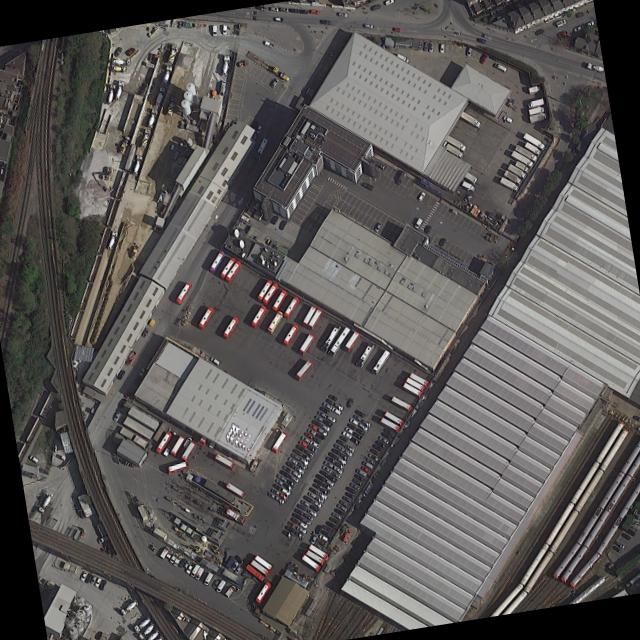large-vehicle: (245, 51, 280, 76), (326, 326, 351, 358), (319, 323, 342, 354), (369, 349, 391, 376), (354, 342, 375, 369), (293, 359, 314, 382), (280, 324, 300, 348), (223, 260, 243, 284), (220, 316, 240, 340), (153, 431, 173, 455), (265, 310, 284, 335), (196, 306, 215, 331), (255, 278, 274, 303), (249, 305, 268, 330), (509, 150, 534, 169), (253, 581, 272, 606), (207, 250, 226, 274), (174, 282, 193, 306), (260, 282, 279, 306), (514, 144, 538, 163), (218, 256, 236, 281), (244, 564, 266, 584), (342, 330, 361, 353), (282, 296, 300, 320), (270, 289, 288, 313), (458, 111, 482, 129), (522, 133, 546, 151), (223, 482, 247, 500), (297, 333, 315, 356), (270, 431, 288, 454), (303, 549, 326, 567), (389, 396, 413, 413), (212, 454, 236, 471), (300, 554, 321, 573), (253, 554, 274, 573), (307, 543, 329, 561), (306, 308, 323, 331), (382, 410, 405, 427), (378, 417, 401, 434), (300, 305, 317, 328), (224, 509, 247, 526), (249, 559, 270, 577), (118, 599, 139, 617), (169, 435, 186, 457), (445, 136, 467, 153), (136, 622, 156, 640), (179, 441, 196, 462), (36, 493, 53, 514), (407, 372, 429, 388), (403, 377, 425, 393), (401, 382, 423, 398), (498, 177, 520, 193), (444, 143, 464, 160), (132, 616, 152, 633), (502, 170, 523, 186), (506, 164, 527, 180), (165, 461, 188, 475), (256, 135, 270, 155), (523, 142, 541, 157), (138, 129, 151, 149), (131, 155, 143, 176), (146, 108, 158, 129), (585, 62, 604, 75), (154, 87, 166, 107), (528, 112, 548, 124), (105, 84, 116, 105), (114, 80, 125, 101), (161, 65, 172, 86), (165, 96, 176, 117), (106, 231, 118, 250), (220, 55, 230, 77), (166, 45, 177, 65), (514, 160, 529, 174), (526, 98, 545, 109), (361, 482, 374, 498), (143, 629, 161, 640), (460, 181, 476, 193), (527, 106, 545, 116), (395, 53, 410, 64), (111, 58, 131, 66), (493, 63, 507, 73), (110, 65, 127, 73), (157, 189, 167, 202), (527, 86, 541, 95), (279, 71, 290, 82), (219, 80, 226, 96), (554, 19, 566, 28), (625, 528, 636, 537), (620, 532, 631, 541), (614, 541, 625, 550), (502, 116, 513, 124), (611, 545, 621, 553), (632, 415, 640, 423)
small-vehicle: (171, 552, 184, 567), (395, 170, 407, 186), (223, 584, 236, 598), (193, 566, 205, 581), (214, 579, 226, 593), (202, 572, 214, 586), (158, 546, 170, 560), (189, 564, 200, 578), (224, 556, 235, 569), (354, 468, 368, 478), (115, 369, 126, 381), (161, 446, 172, 458), (182, 437, 193, 449), (164, 548, 175, 560), (361, 182, 374, 192), (372, 160, 385, 170), (185, 562, 195, 575), (168, 551, 178, 564), (96, 535, 109, 545), (376, 435, 389, 445), (361, 460, 374, 470), (291, 448, 303, 458), (171, 149, 181, 161), (478, 53, 488, 65), (281, 465, 293, 475), (324, 520, 336, 530), (335, 503, 347, 513), (321, 524, 333, 534), (290, 470, 302, 480), (352, 473, 364, 483), (334, 438, 346, 448), (341, 448, 353, 458), (278, 469, 290, 479), (314, 473, 326, 483), (281, 529, 293, 539), (379, 431, 391, 441), (371, 443, 383, 453), (316, 491, 328, 501), (571, 24, 584, 33), (555, 31, 568, 40), (322, 461, 335, 470), (209, 356, 220, 366), (137, 366, 147, 377), (111, 411, 121, 422), (319, 423, 330, 433), (269, 78, 279, 89), (113, 47, 123, 58), (462, 193, 473, 203), (413, 218, 423, 229), (211, 578, 221, 589), (338, 499, 349, 509), (320, 529, 331, 539), (327, 451, 338, 461), (348, 417, 359, 427), (326, 474, 337, 484), (308, 440, 320, 449), (306, 445, 318, 454), (286, 457, 298, 466), (316, 428, 328, 437), (322, 419, 334, 428), (321, 402, 333, 411), (325, 415, 337, 424), (293, 466, 305, 475), (330, 512, 342, 521), (177, 557, 186, 569), (79, 571, 88, 583), (83, 573, 92, 585), (97, 579, 106, 591), (344, 486, 356, 495), (348, 482, 360, 491), (350, 478, 362, 487), (343, 444, 355, 453), (332, 443, 344, 452), (333, 461, 345, 470), (320, 465, 332, 474), (351, 432, 363, 441), (275, 474, 287, 483), (357, 423, 369, 432), (283, 525, 295, 534), (295, 526, 307, 535), (382, 428, 394, 437), (374, 440, 386, 449), (368, 448, 380, 457), (367, 453, 379, 462), (359, 465, 371, 474), (295, 503, 307, 512), (308, 504, 320, 513), (233, 555, 243, 565), (28, 455, 39, 464), (278, 220, 287, 231), (373, 222, 382, 233), (300, 435, 311, 444), (297, 440, 308, 449), (294, 444, 305, 453), (303, 449, 314, 458), (301, 453, 312, 462), (289, 453, 300, 462), (298, 457, 309, 466), (296, 462, 307, 471), (333, 402, 344, 411), (330, 407, 341, 416), (284, 461, 295, 470), (313, 524, 322, 535), (309, 534, 318, 545), (199, 571, 208, 582), (93, 577, 102, 588), (341, 431, 352, 440), (349, 437, 360, 446), (336, 457, 347, 466), (324, 456, 335, 465), (332, 466, 343, 475), (288, 475, 299, 484), (285, 479, 296, 488), (274, 478, 285, 487), (282, 483, 293, 492), (274, 496, 285, 505), (318, 469, 329, 478), (365, 457, 376, 466), (300, 517, 311, 526), (312, 478, 323, 487), (319, 487, 330, 496), (302, 495, 313, 504), (290, 512, 301, 521), (311, 500, 322, 509), (299, 500, 310, 509), (306, 509, 317, 518), (293, 507, 304, 516), (302, 513, 313, 522), (329, 471, 341, 479), (354, 428, 366, 436), (270, 215, 279, 225), (308, 423, 318, 432), (306, 428, 316, 437), (303, 431, 313, 440), (311, 419, 321, 428), (354, 499, 363, 509), (126, 47, 135, 57), (417, 192, 426, 202), (230, 561, 239, 571), (344, 491, 354, 500), (333, 507, 343, 516), (318, 534, 328, 543), (315, 538, 325, 547), (182, 560, 191, 570), (344, 427, 354, 436), (280, 488, 290, 497), (278, 492, 288, 501), (141, 328, 149, 339), (314, 433, 325, 441), (327, 394, 338, 402), (354, 410, 365, 418), (318, 406, 329, 414), (316, 411, 327, 419), (313, 415, 324, 423), (263, 41, 274, 49), (575, 11, 586, 19), (118, 398, 126, 409), (330, 448, 341, 456), (271, 483, 282, 491), (269, 488, 280, 496), (360, 420, 371, 428), (293, 531, 304, 539), (321, 483, 332, 491), (370, 4, 382, 11), (233, 566, 242, 575), (584, 20, 594, 28), (438, 238, 446, 248), (465, 47, 473, 57), (534, 29, 544, 37), (341, 496, 351, 504), (328, 516, 338, 524), (313, 542, 323, 550), (89, 575, 97, 585), (338, 435, 348, 443), (339, 453, 349, 461), (346, 423, 356, 431), (352, 414, 362, 422), (289, 517, 299, 525), (324, 479, 334, 487), (314, 496, 324, 504), (308, 487, 318, 495), (306, 492, 316, 500), (347, 398, 354, 409), (267, 492, 276, 500), (311, 437, 321, 444), (424, 225, 431, 235), (298, 522, 308, 529), (311, 483, 321, 490), (320, 20, 331, 26), (383, 0, 394, 6), (325, 399, 334, 406), (255, 125, 262, 134), (124, 390, 131, 399), (95, 631, 102, 640), (279, 7, 289, 13), (212, 25, 217, 37), (392, 27, 402, 33), (422, 42, 428, 52), (477, 38, 487, 44), (286, 521, 294, 528), (0, 165, 5, 176), (362, 24, 373, 29), (428, 42, 433, 53), (439, 44, 445, 53), (273, 17, 283, 22), (299, 10, 309, 15), (309, 10, 319, 15), (222, 25, 227, 35), (269, 7, 278, 12), (289, 9, 299, 13), (338, 13, 347, 17)
storage-tank: (179, 98, 191, 117), (182, 90, 194, 108), (185, 82, 197, 98), (64, 616, 76, 631), (74, 609, 86, 623), (83, 602, 93, 618), (67, 627, 79, 640), (74, 596, 86, 609), (74, 619, 84, 633), (200, 535, 207, 543), (185, 119, 190, 125), (191, 120, 196, 126), (179, 125, 184, 130), (63, 637, 70, 640), (180, 121, 184, 126)
